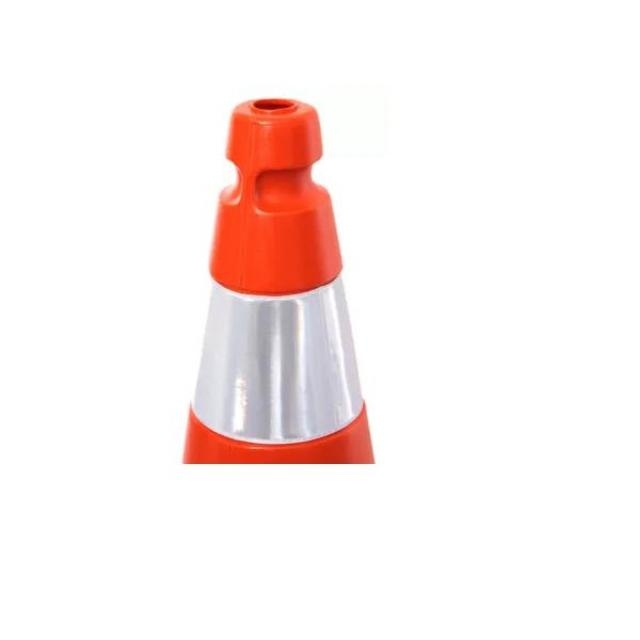cone: (168, 63, 380, 478)
